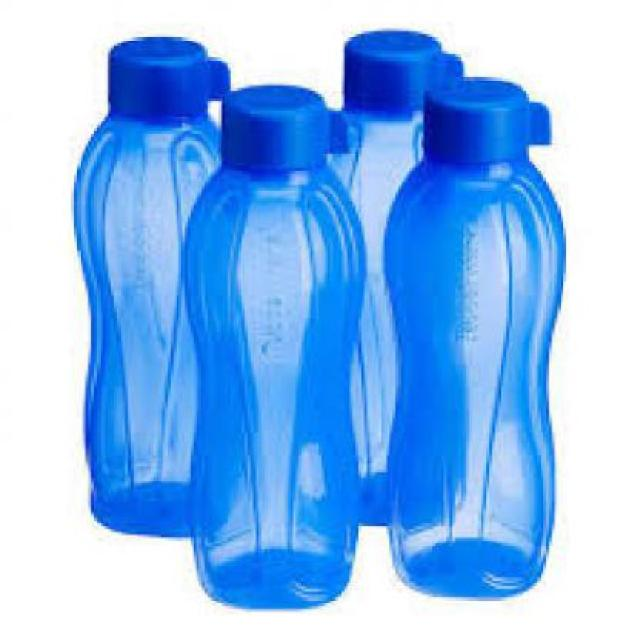Drinking: (379, 80, 566, 608), (193, 79, 367, 598), (74, 28, 238, 541)
